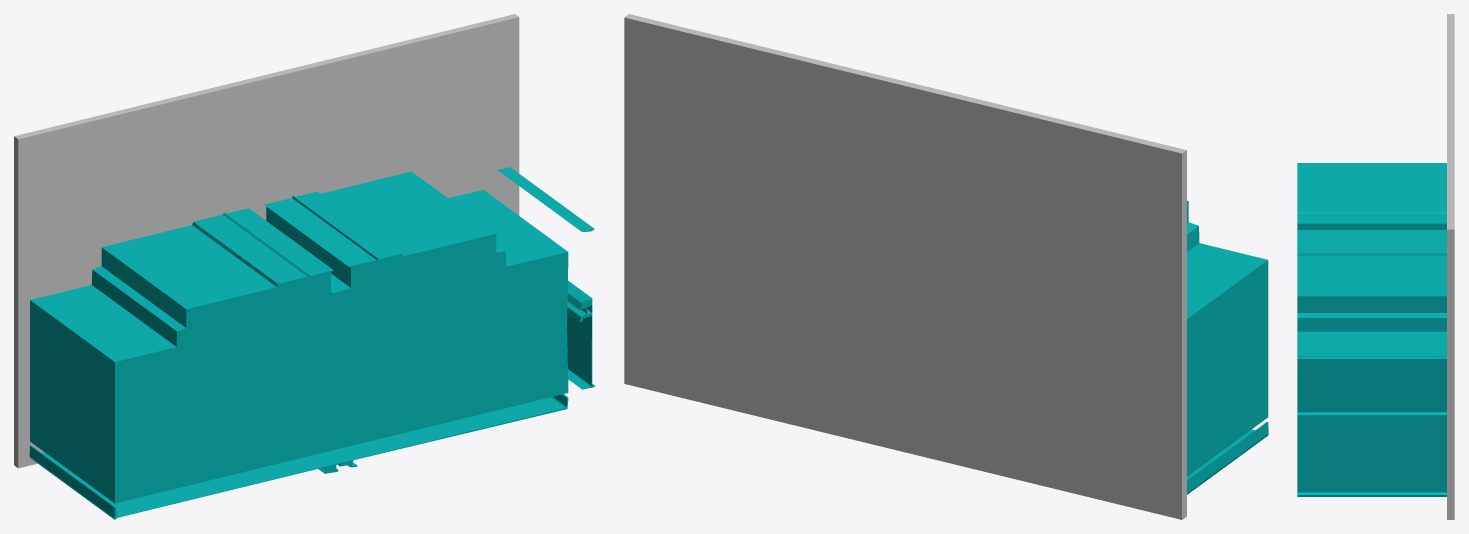
3 views of the same model, side by side, from view 1: azimuth 30°, elevation 25°; view 2: azimuth 150°, elevation 25°; view 3: azimuth 270°, elevation 25° (orthographic). The views are drawn at different scales.
Visible parts, largest first — view 1: world; view 2: world; view 3: world.
Boxes of the visible parts, left/top/right/bottom form: world: left=14, top=14, right=595, bottom=519; world: left=624, top=14, right=1268, bottom=519; world: left=1297, top=14, right=1454, bottom=519.
Bounding box in the file's own units: 10.23 × 6.42 × 3.15.
